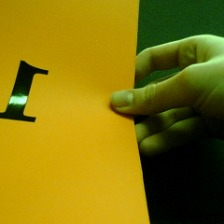orange1: (1, 56, 49, 127)
